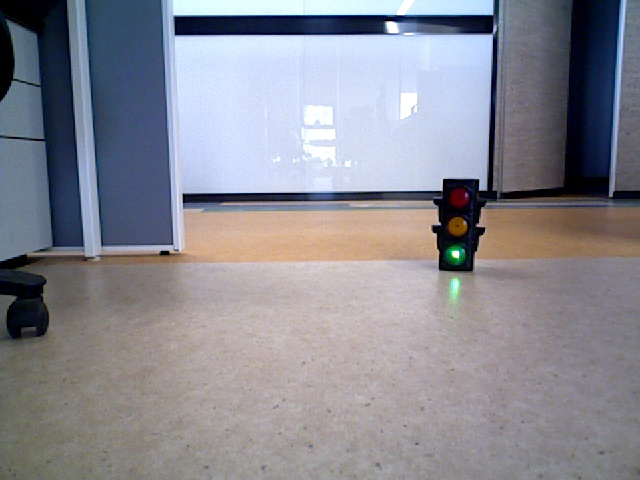green: (440, 181, 472, 264)
